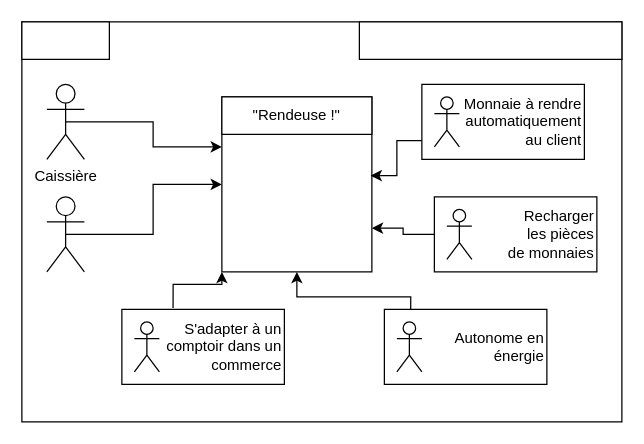
This 644x444 diagram has some shape labels left out. The shapes that lost their labels are listed below. From the top down, each one's box as (x1, y1, x2, y2) in pixels, then its label:
(21, 21, 109, 59): Block
(358, 21, 622, 59): Petit commerce "style boulangerie"
(46, 196, 84, 272): Client
